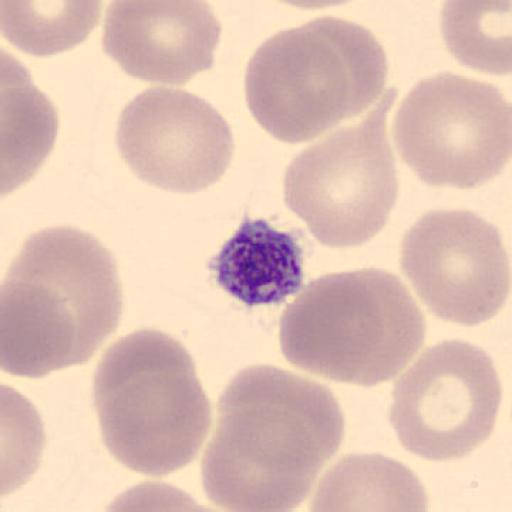Platelet: (204, 214, 308, 309)
RBC: (3, 222, 125, 373), (277, 266, 427, 388), (280, 105, 400, 253), (251, 16, 390, 138), (387, 336, 503, 465), (392, 69, 511, 192), (242, 19, 351, 146), (399, 206, 511, 329), (112, 84, 236, 194), (218, 362, 347, 466), (90, 326, 204, 441), (199, 404, 320, 511), (277, 268, 387, 385), (94, 370, 212, 478), (331, 265, 427, 388), (100, 0, 223, 86), (292, 14, 390, 117), (1, 56, 60, 196), (307, 450, 430, 512), (2, 277, 76, 380), (3, 0, 104, 58), (439, 0, 512, 76), (1, 382, 47, 498), (94, 478, 246, 512), (263, 0, 368, 11)
